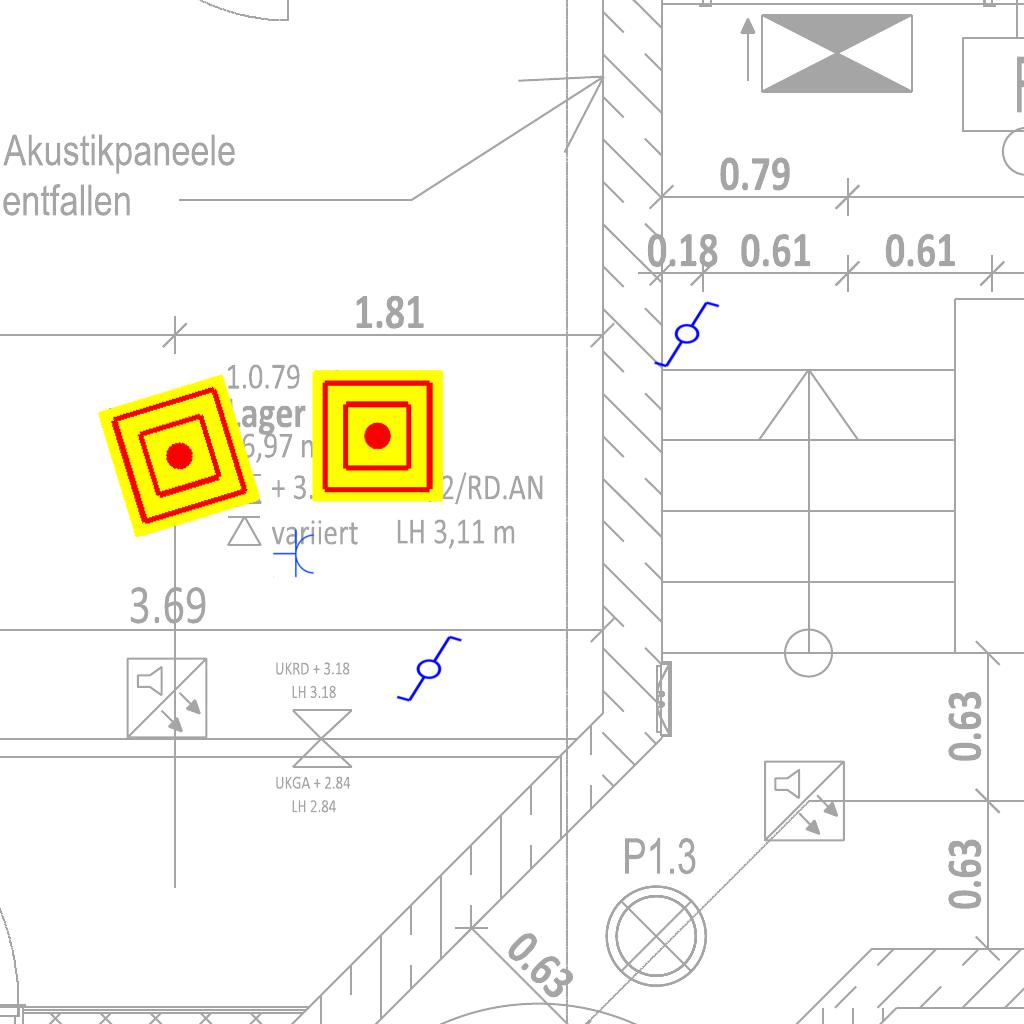NAM-Nichtautomatischer_Melder: (96, 373, 262, 539), (312, 370, 444, 502)
Schukosteckdose_einfach: (273, 529, 316, 579)
Wechselschalter: (386, 632, 464, 704), (652, 299, 730, 371)
